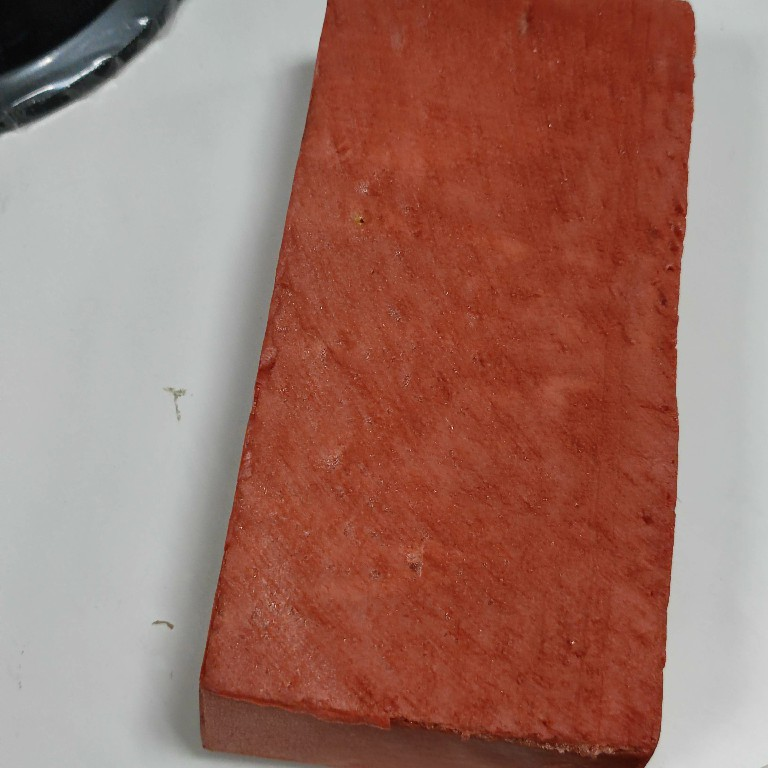brick: (194, 1, 706, 765)
